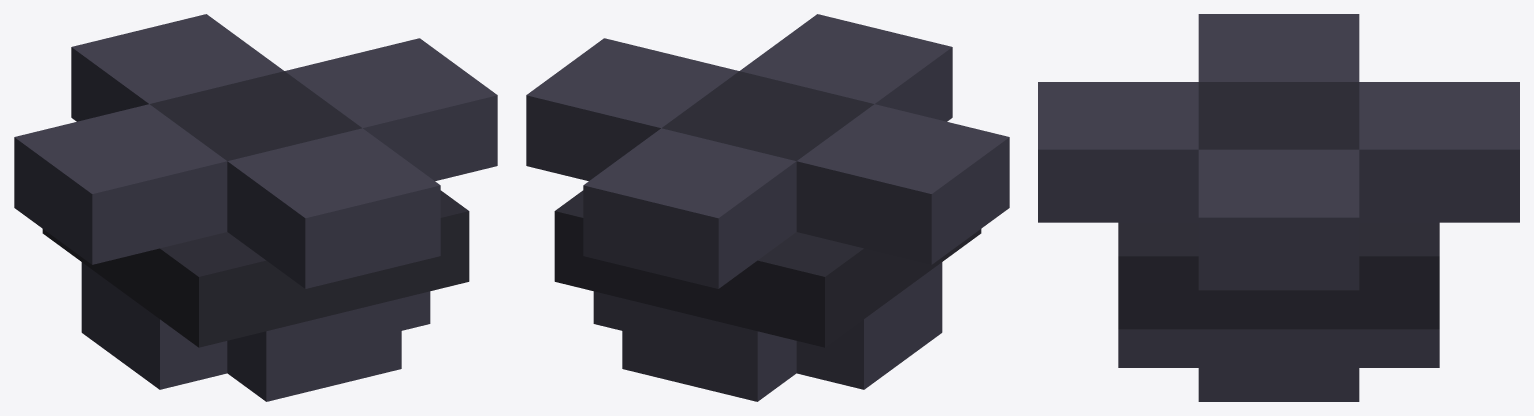
The model's file is can_frosty-4.fbx.
3 views of the same model, side by side, from view 1: azimuth 30°, elevation 25°; view 2: azimuth 150°, elevation 25°; view 3: azimuth 270°, elevation 25° (orthographic). The views are drawn at different scales.
Parts seen in each view (by area): view 1: can_frosty-4.001; view 2: can_frosty-4.001; view 3: can_frosty-4.001.
Part boxes in pixels (x1,y1,x2,y2): can_frosty-4.001: [14, 14, 497, 401]; can_frosty-4.001: [526, 14, 1009, 401]; can_frosty-4.001: [1038, 14, 1519, 401].
Size of the model in its own units: 0.6 by 0.3 by 0.6.
Materials: 1 (1 with a texture image).
